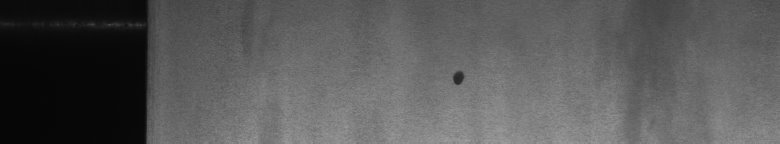fi: (447, 66, 471, 92)
